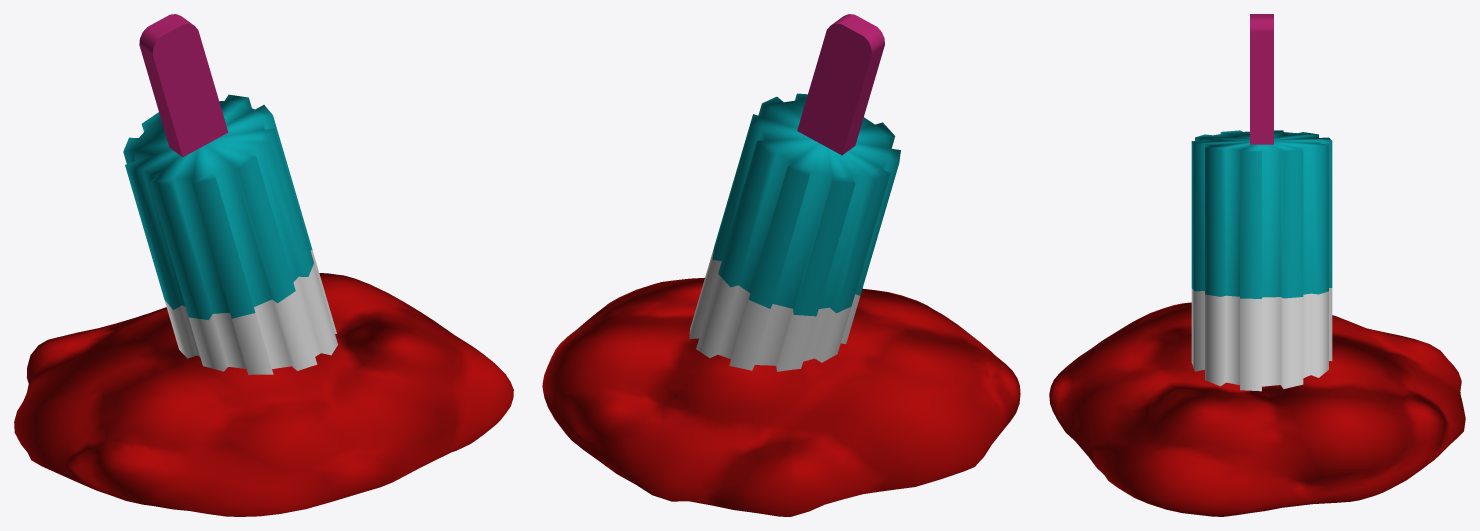
The model's file is rocketPopBlob.fbx.
The picture shows the model from 3 angles, left to right: view 1: azimuth 30°, elevation 25°; view 2: azimuth 150°, elevation 25°; view 3: azimuth 270°, elevation 25°; orthographic projection. The views are drawn at different scales.
Visible parts, largest first — view 1: Bush1_Group8746; view 2: Bush1_Group8746; view 3: Bush1_Group8746.
Boxes of the visible parts, bbox=[...] form: Bush1_Group8746: bbox=[14, 14, 513, 516]; Bush1_Group8746: bbox=[542, 14, 1020, 516]; Bush1_Group8746: bbox=[1049, 14, 1465, 516].
Bounding box in the file's own units: 3.64 × 3.59 × 3.42.
